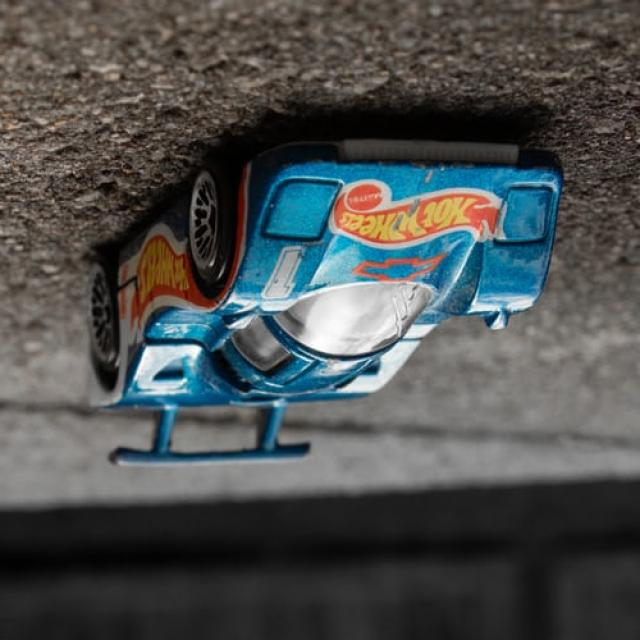Car: (84, 137, 566, 468)
